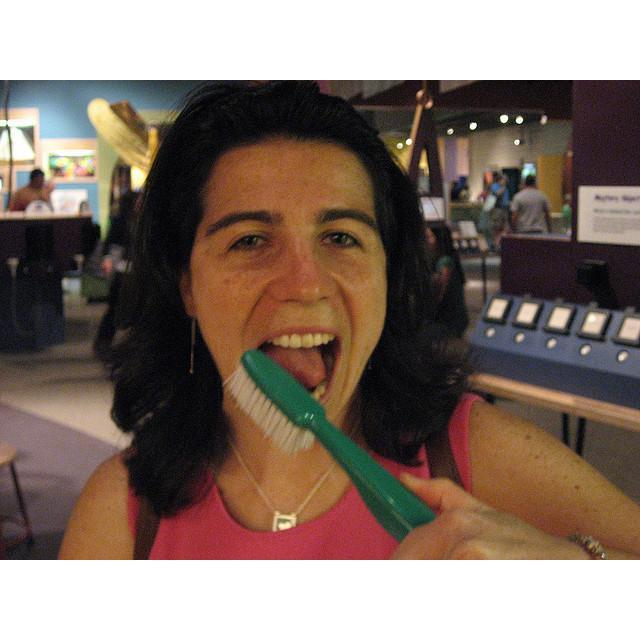toothbrush: (220, 348, 438, 544)
